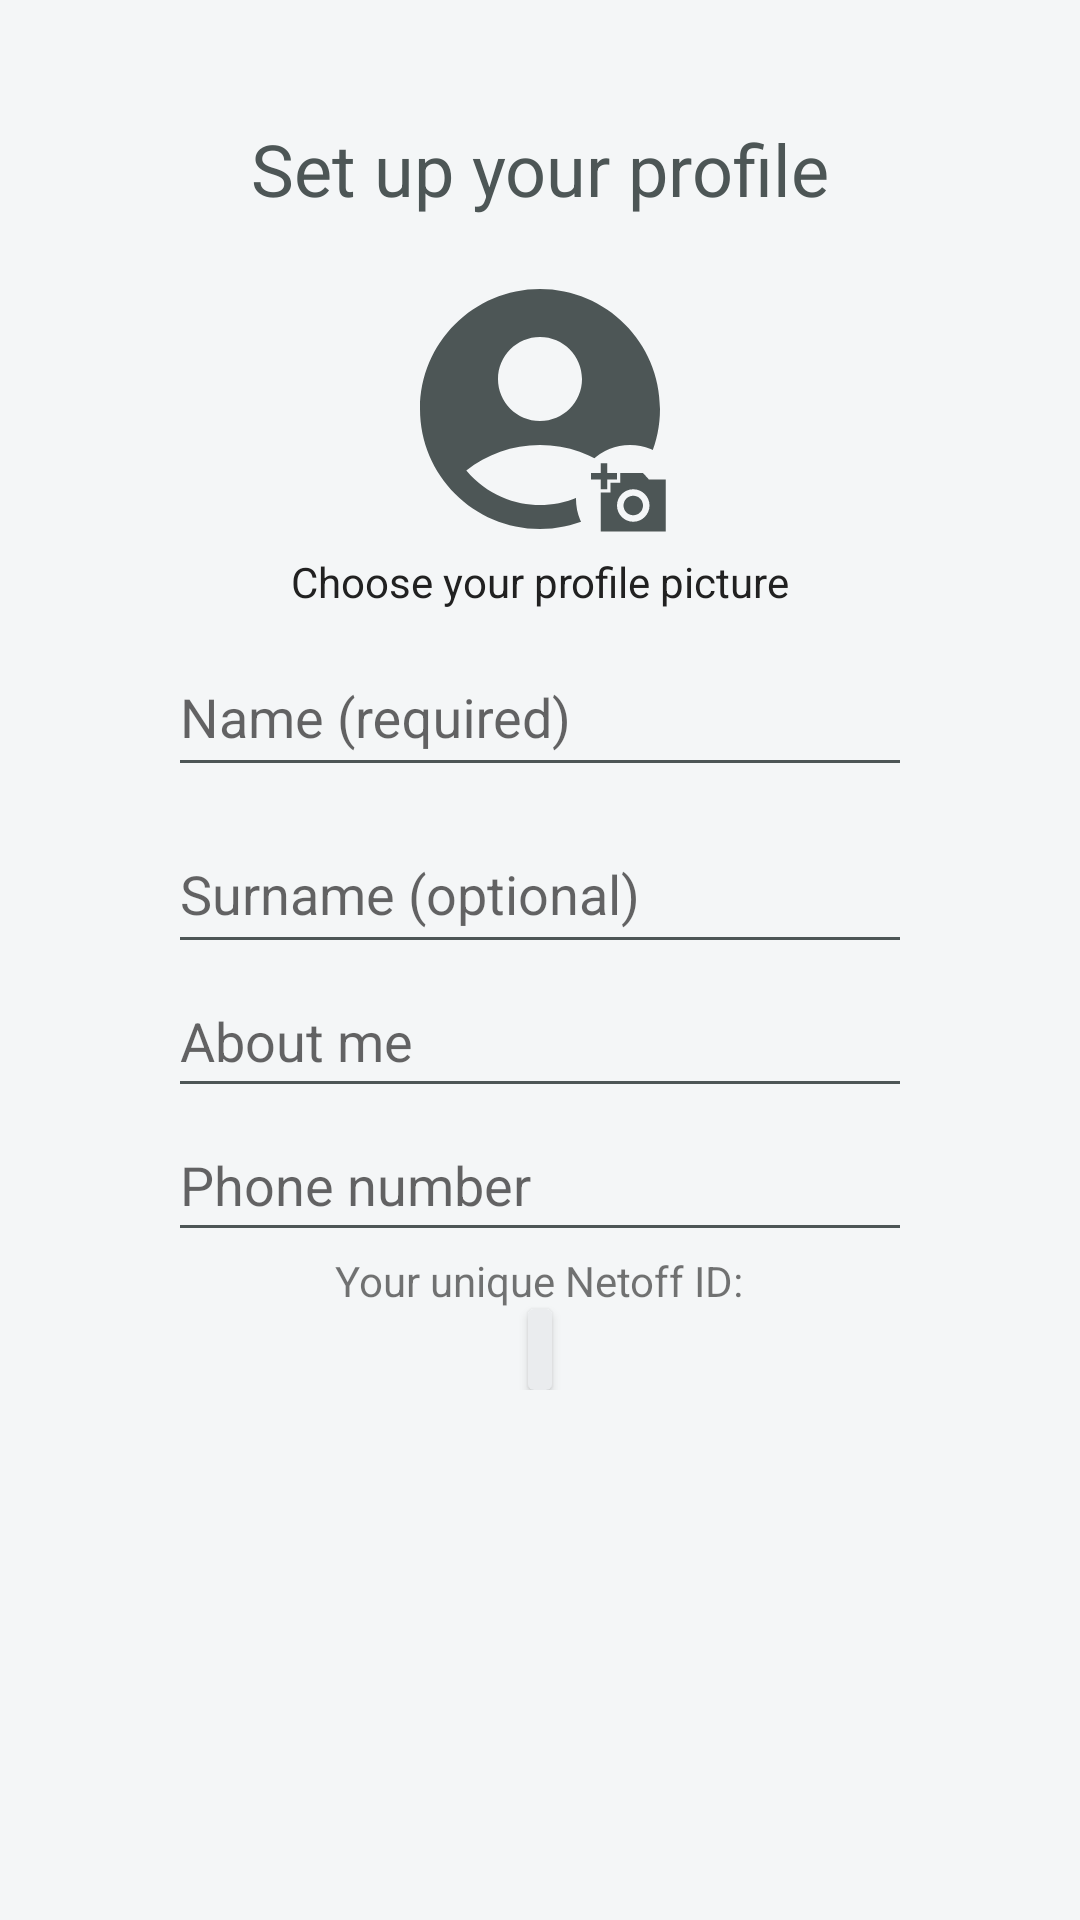

Locate icon controls on the screen. Image size 1080px x 1920px, boxes as detection(x1, y1, x2, y2).
account add photo: detection(420, 289, 666, 532)
